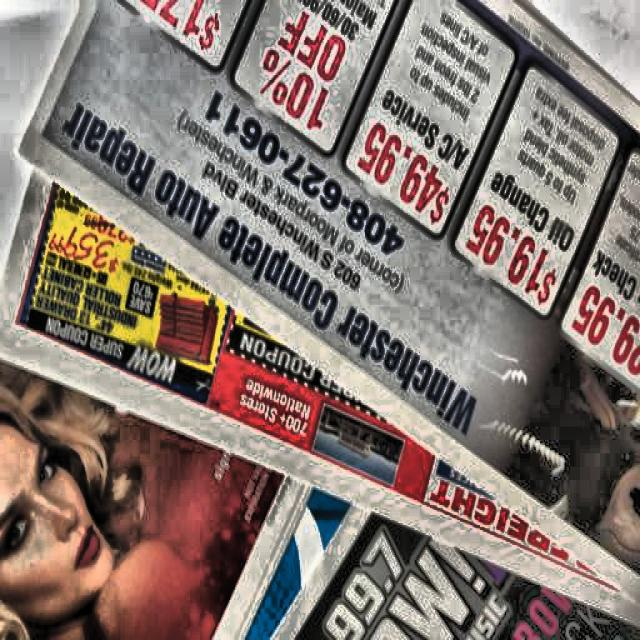paper: (14, 0, 624, 640)
